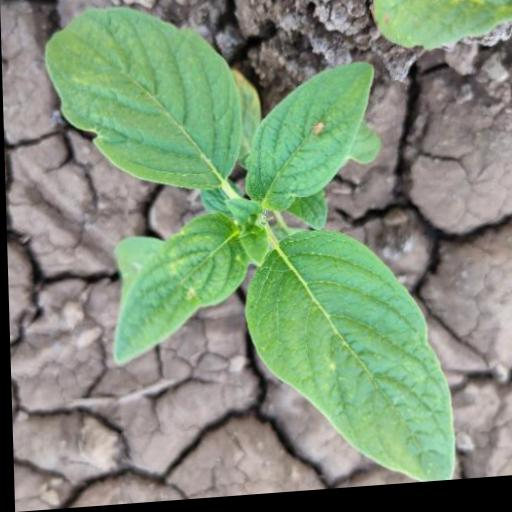crop: (9, 0, 505, 503)
